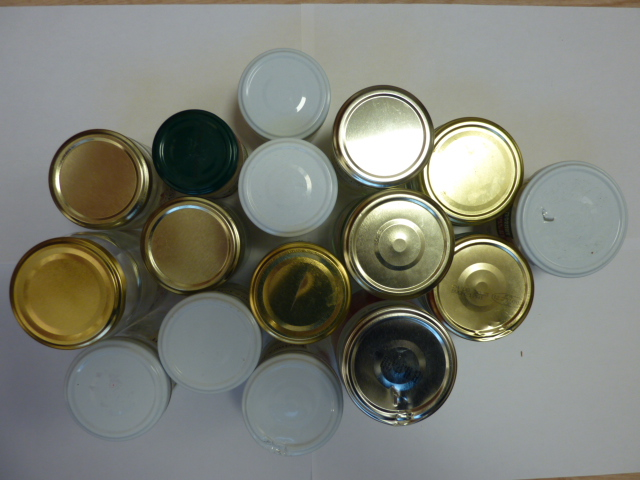damaged: (342, 306, 459, 426), (512, 159, 628, 280), (434, 234, 538, 344), (242, 355, 344, 458), (248, 243, 349, 346)
intact: (10, 238, 126, 349), (349, 186, 454, 297), (421, 115, 524, 223), (66, 341, 172, 442), (157, 293, 261, 393), (335, 86, 435, 188), (47, 131, 149, 230), (238, 137, 338, 236), (142, 197, 241, 295), (238, 48, 332, 138), (152, 111, 238, 193)
